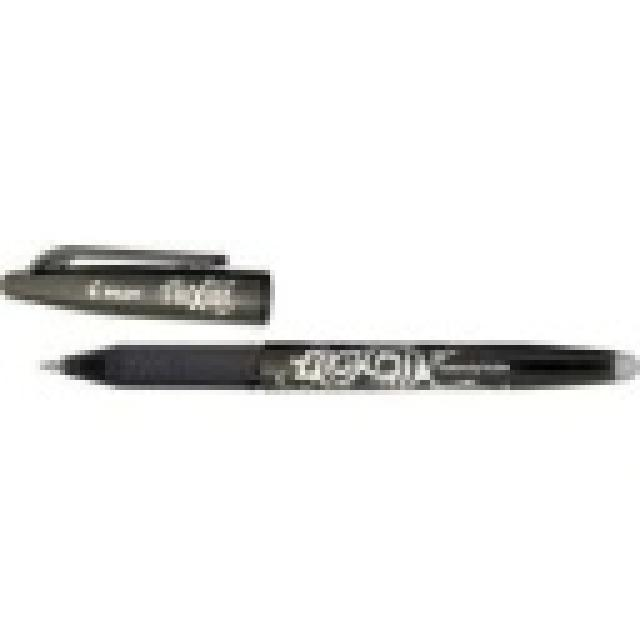pen: (33, 335, 635, 399)
